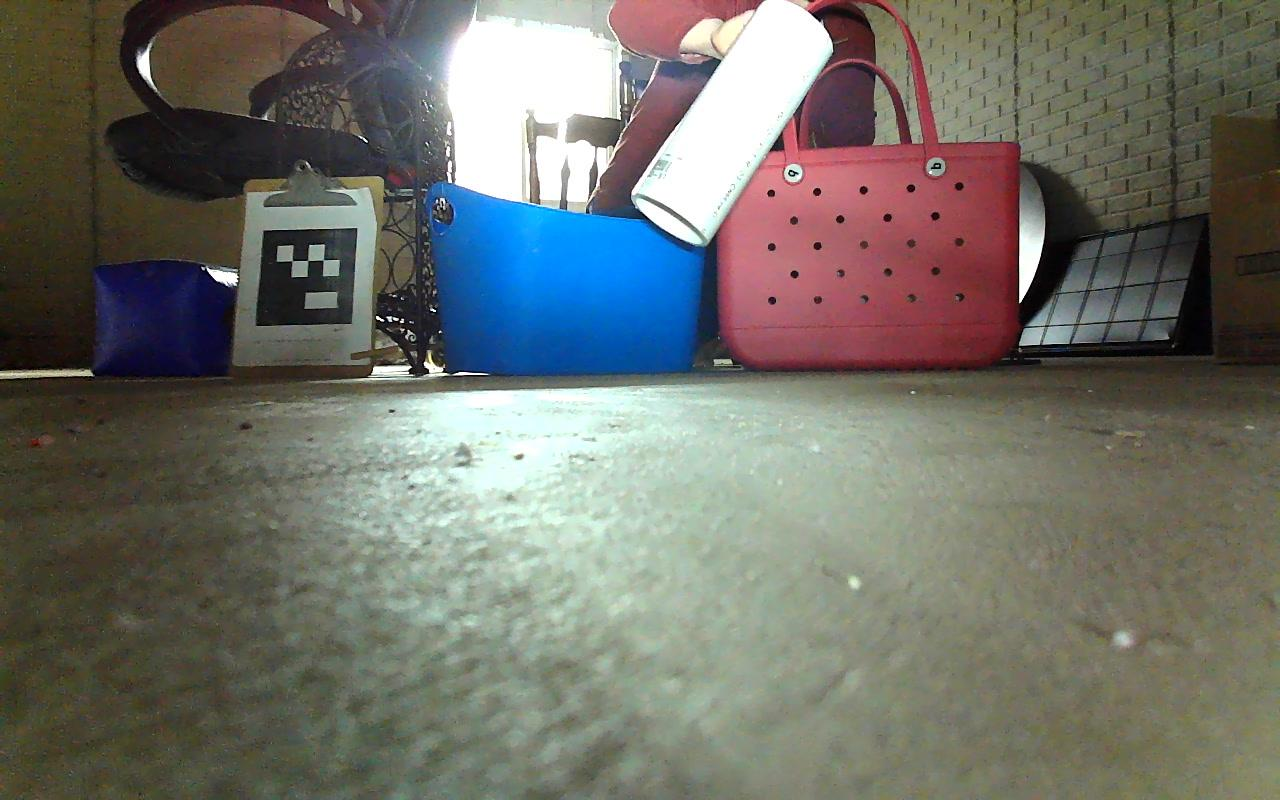coral: (636, 0, 835, 256)
